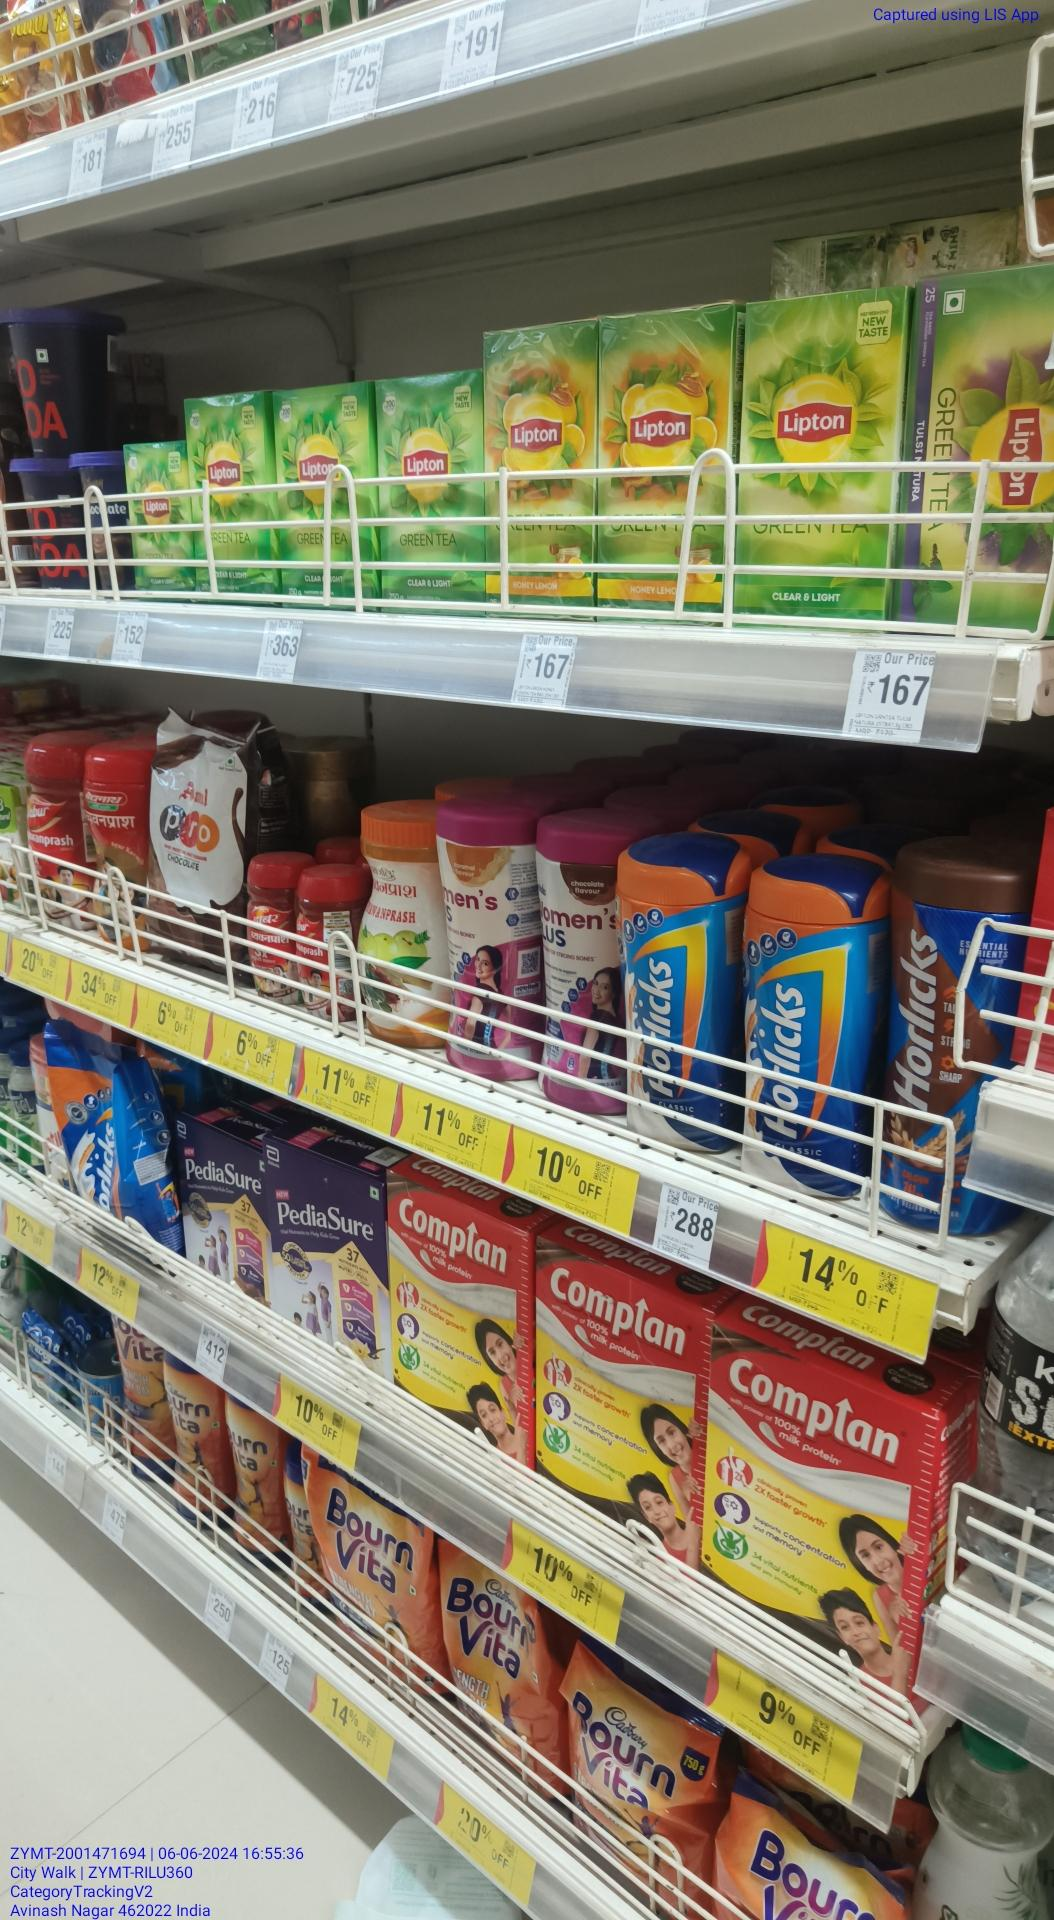BOURN_VITA_1_KG_JAR: (110, 1313, 165, 1483)
BOURN_VITA_1_KG_POUCH: (309, 1469, 423, 1680)
BOURN_VITA_500_G_JAR: (223, 1393, 278, 1574), (165, 1356, 219, 1530)
BOURN_VITA_750_G_POUCH: (566, 1661, 706, 1906), (441, 1549, 549, 1763)
COMPLAN_CHOCOLATE_500_GMS_PACK: (706, 1334, 911, 1683), (537, 1242, 700, 1575), (383, 1183, 521, 1467)
HORLICK_CHOCOLATE_200_G_JAR: (880, 854, 1007, 1239)
HORLICK_CLASSIC_MALT_200_G_JAR: (741, 858, 868, 1204), (619, 852, 731, 1165)
HORLICK_CLASSIC_MALT_750_G_POUCH: (51, 1031, 136, 1254)
PEDIASURE_7_PLUS_CHOCOLATE_400_G_PACK: (177, 1125, 265, 1334)
PEDIASURE_VANILLA_500_G_PACK: (269, 1142, 376, 1369)
